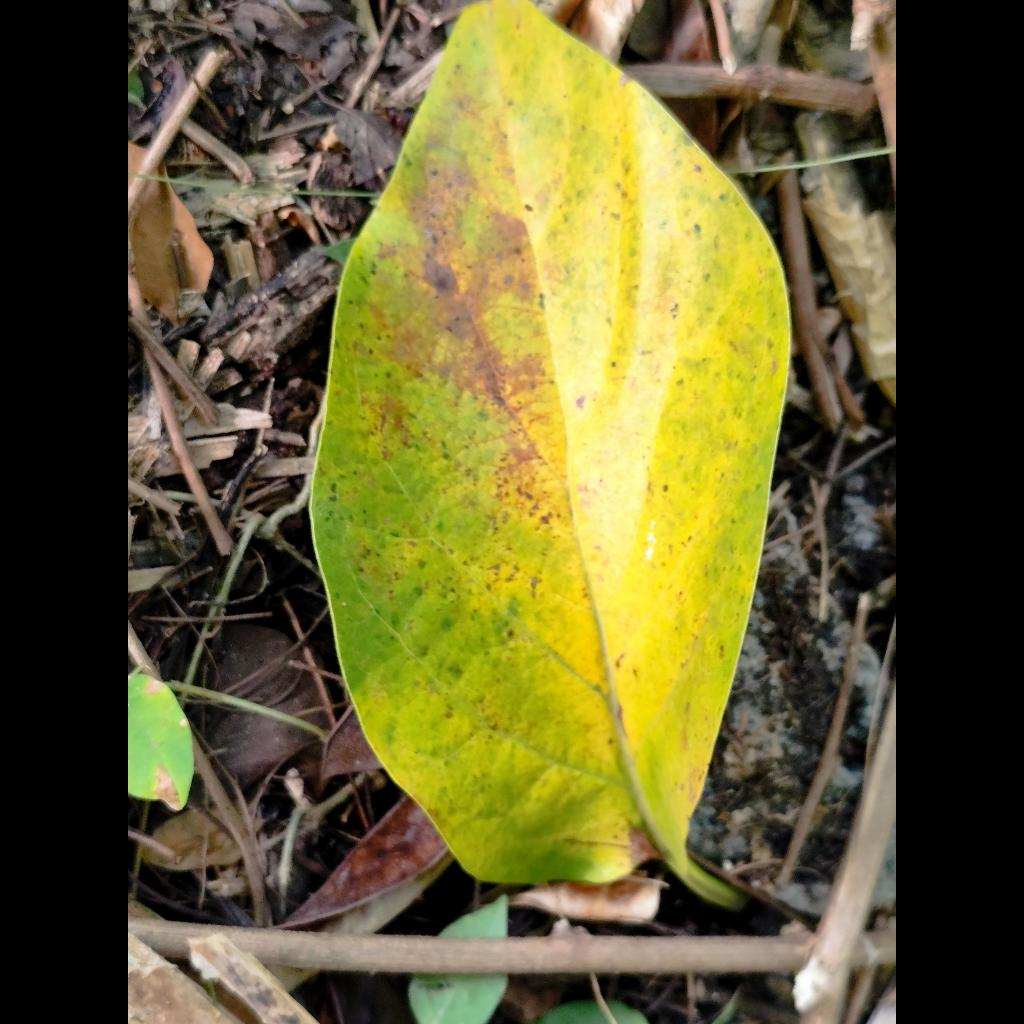deficiencia_nutricional: (311, 0, 790, 904)
